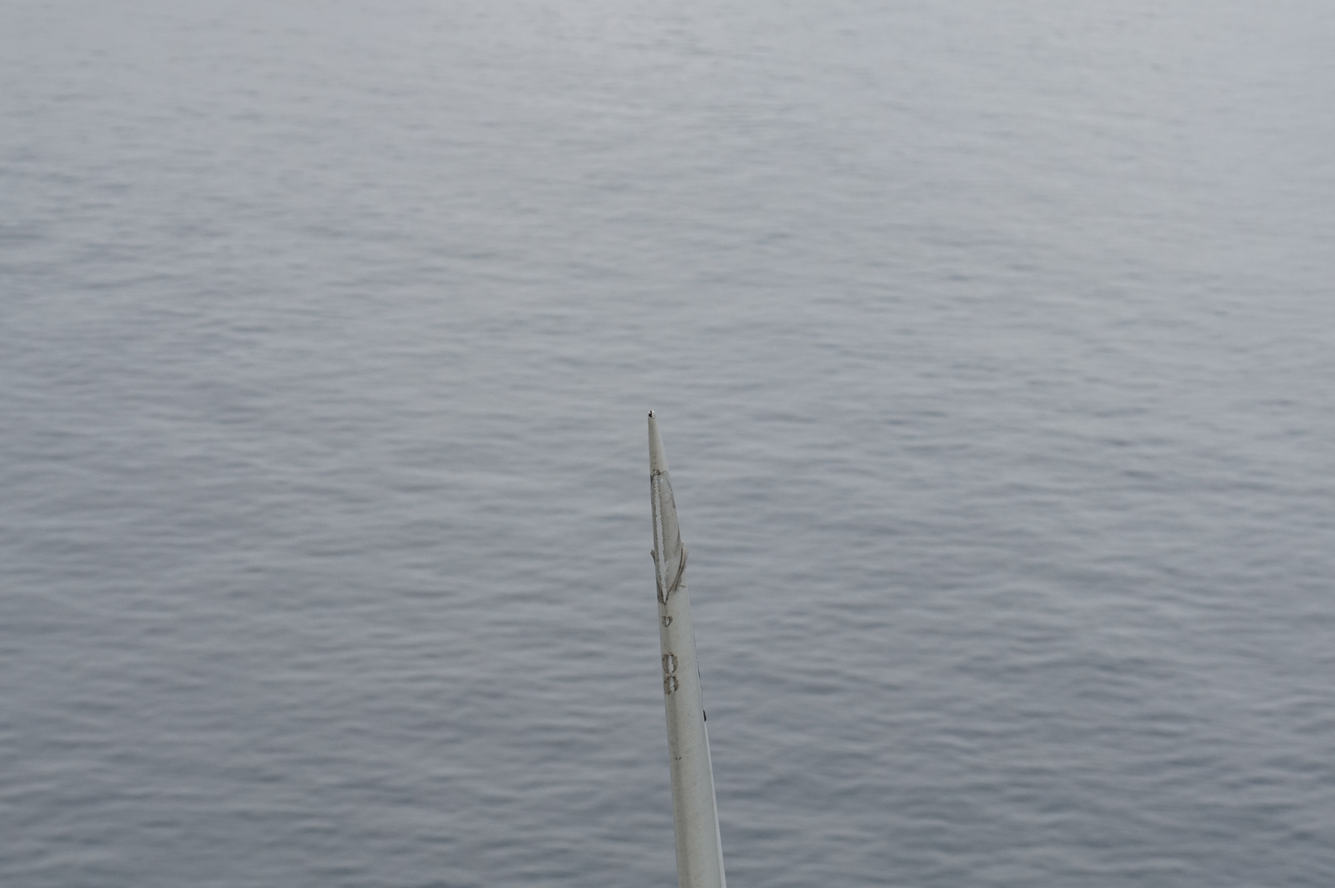Damage: (652, 468, 688, 611), (661, 651, 680, 698)
